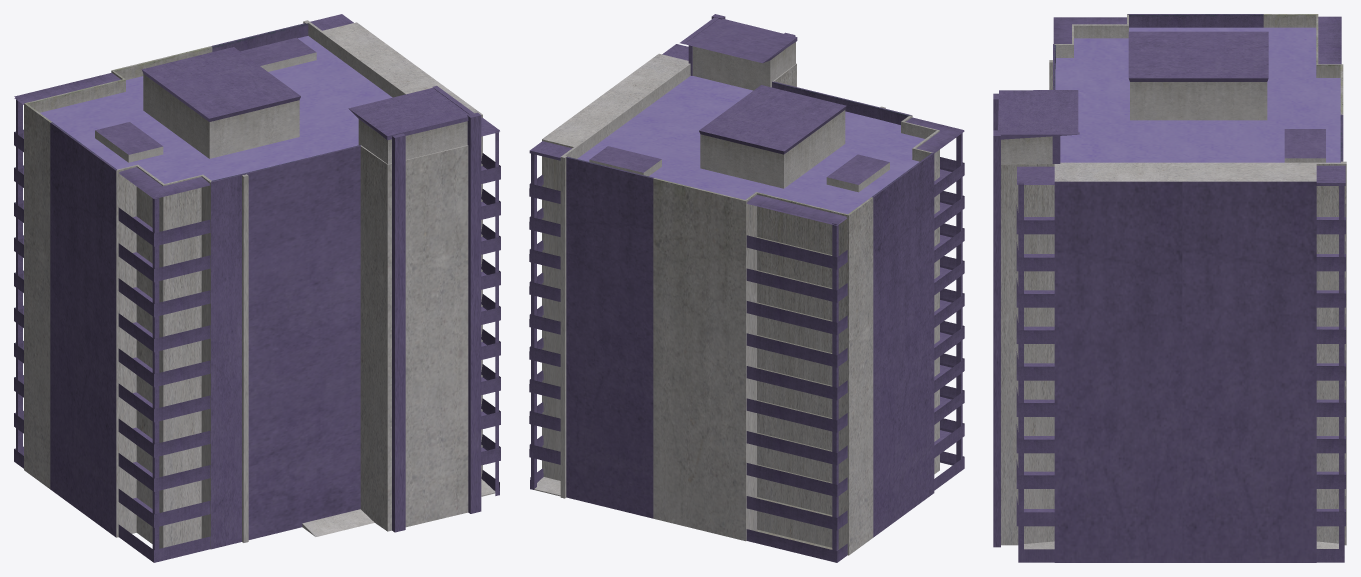
File: ORB_6_Outer_Single_S10_Detail_3.fbx
3 views of the same model, side by side, from view 1: azimuth 30°, elevation 25°; view 2: azimuth 150°, elevation 25°; view 3: azimuth 270°, elevation 25° (orthographic). The views are drawn at different scales.
Visible parts, largest first — view 1: ORB_6_Outer_Single_S10_Detail_3; view 2: ORB_6_Outer_Single_S10_Detail_3; view 3: ORB_6_Outer_Single_S10_Detail_3.
Boxes of the visible parts, x1,y1,x2,y2 form: ORB_6_Outer_Single_S10_Detail_3: (14, 14, 500, 562); ORB_6_Outer_Single_S10_Detail_3: (529, 14, 964, 562); ORB_6_Outer_Single_S10_Detail_3: (993, 14, 1346, 562).
Bounding box in the file's own units: 2886 × 3291 × 2562.
